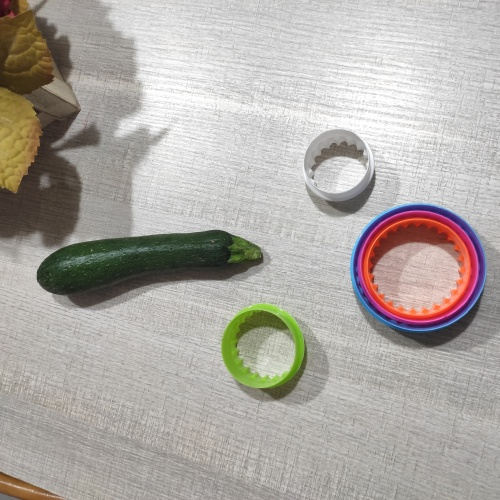zucchine: (33, 223, 275, 294)
